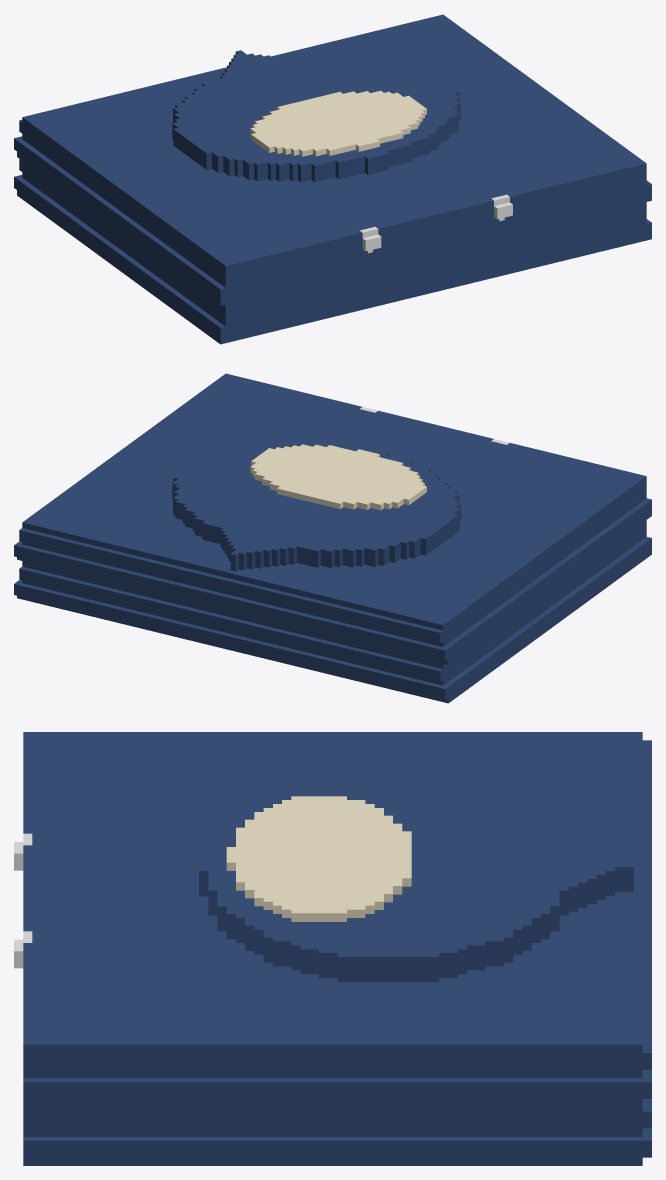
Rendered from cloak_denim.glb.
3 views of the same model, one above another, from view 1: azimuth 30°, elevation 25°; view 2: azimuth 150°, elevation 25°; view 3: azimuth 270°, elevation 25° (orthographic). The views are drawn at different scales.
Visible parts, largest first — view 1: cloak_denim:compound; view 2: cloak_denim:compound; view 3: cloak_denim:compound.
Part boxes in pixels (x1=…): cloak_denim:compound: x1=14, y1=14, x2=651, y2=344; cloak_denim:compound: x1=14, y1=373, x2=651, y2=703; cloak_denim:compound: x1=14, y1=732, x2=651, y2=1165.
Bounding box in the file's own units: 0.328 × 0.072 × 0.276.
